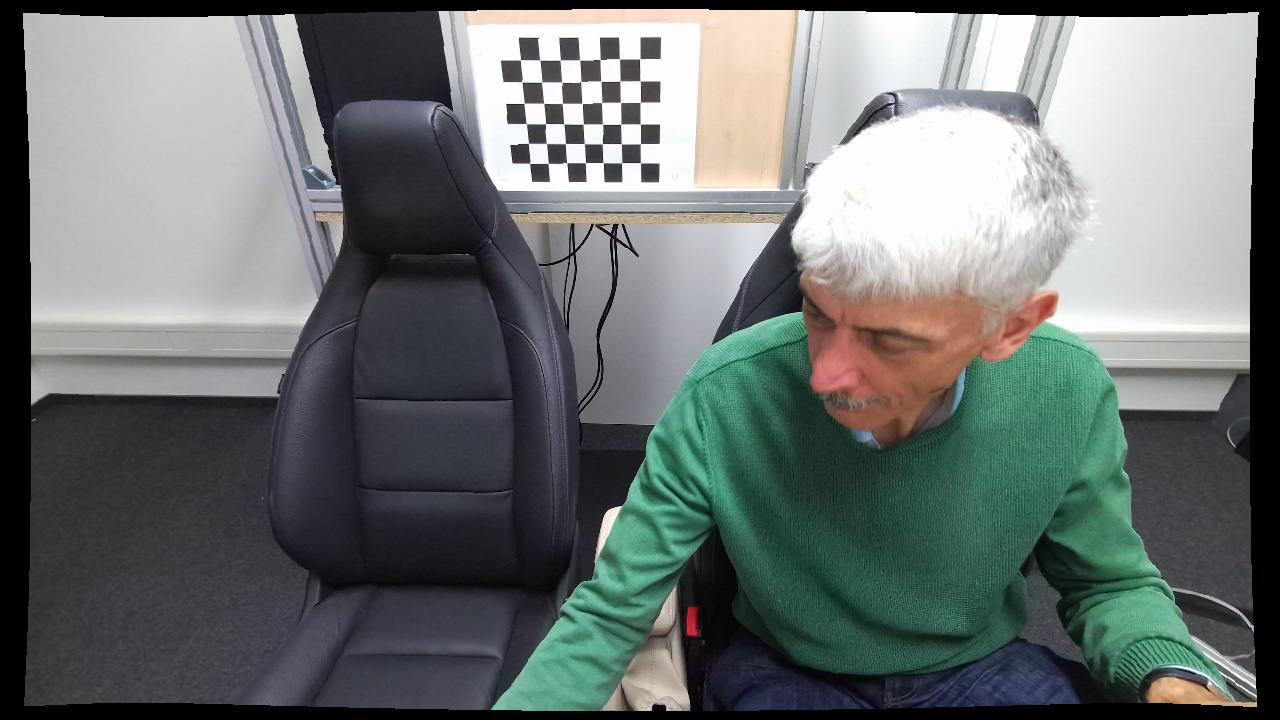Distracted: (492, 99, 1124, 709)
